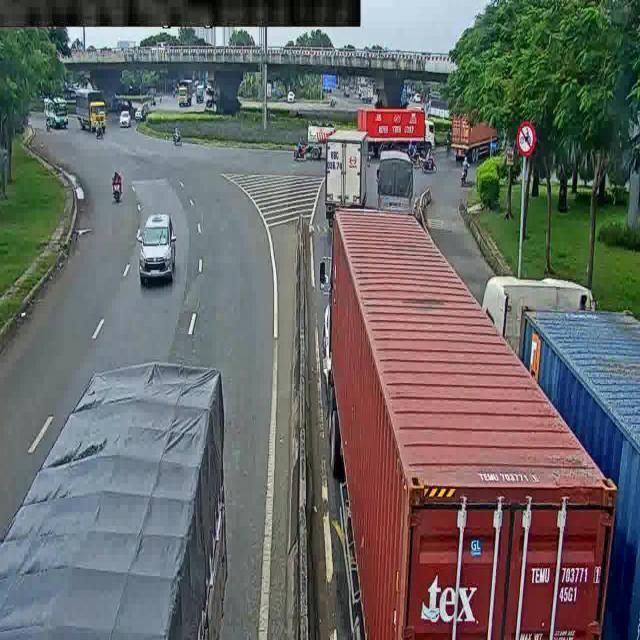bus: (38, 93, 76, 135)
car: (130, 184, 184, 291), (117, 105, 136, 131), (130, 98, 148, 122)
motorbike: (458, 155, 487, 192), (106, 167, 128, 211), (293, 136, 320, 167), (413, 151, 443, 174), (171, 130, 188, 156)
truck: (313, 205, 611, 640), (4, 349, 232, 629), (474, 264, 640, 573), (319, 130, 388, 224), (357, 104, 442, 152), (449, 99, 507, 162), (381, 147, 417, 214), (71, 85, 111, 128), (173, 78, 194, 112)
